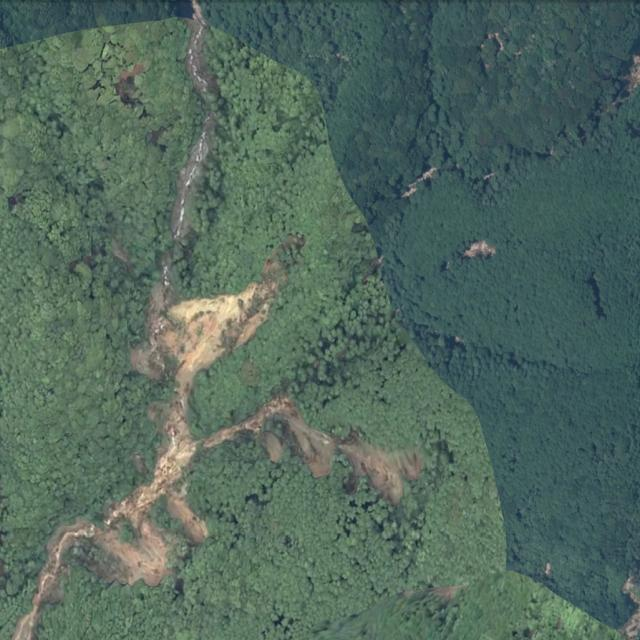landslide: (13, 280, 358, 640), (370, 450, 421, 497)
